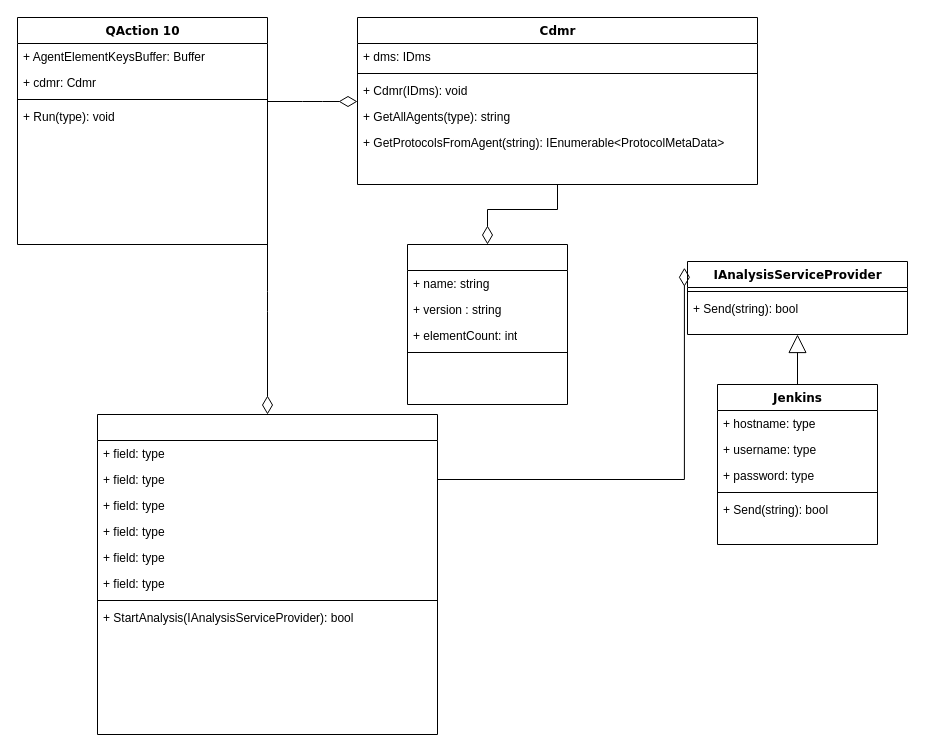
Image size: 925x752. Some labels were removed from this diagram. Here are the shapes that lost their labels. From the top down, the box of each, then its label:
(406, 244, 568, 404): ProtocolMetaData
(96, 414, 438, 734): CalculationRequest
